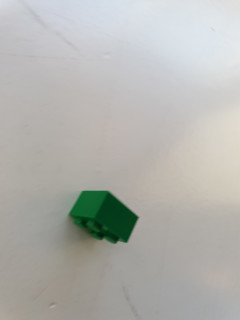2x2 green: (68, 189, 139, 245)
